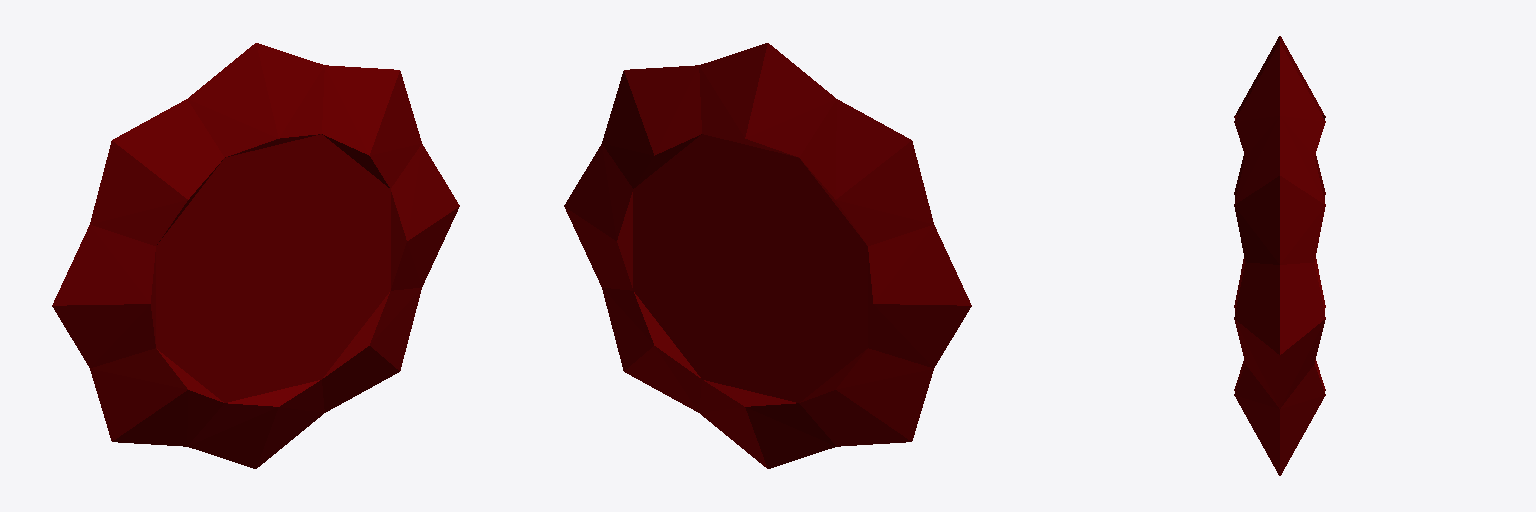
The model's file is Jewel_02.obj.
3 views of the same model, side by side, from view 1: azimuth 30°, elevation 25°; view 2: azimuth 150°, elevation 25°; view 3: azimuth 270°, elevation 25° (orthographic).
Visible parts, largest first — view 1: Jewel_02_Circle; view 2: Jewel_02_Circle; view 3: Jewel_02_Circle.
Boxes of the visible parts, x1=… form: Jewel_02_Circle: x1=52, y1=43, x2=459, y2=468; Jewel_02_Circle: x1=564, y1=43, x2=971, y2=468; Jewel_02_Circle: x1=1234, y1=36, x2=1325, y2=475.
Bounding box in the file's own units: 5.75 × 5.75 × 1.12.